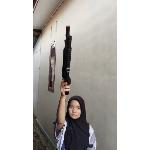Senapan: (60, 24, 76, 99)
